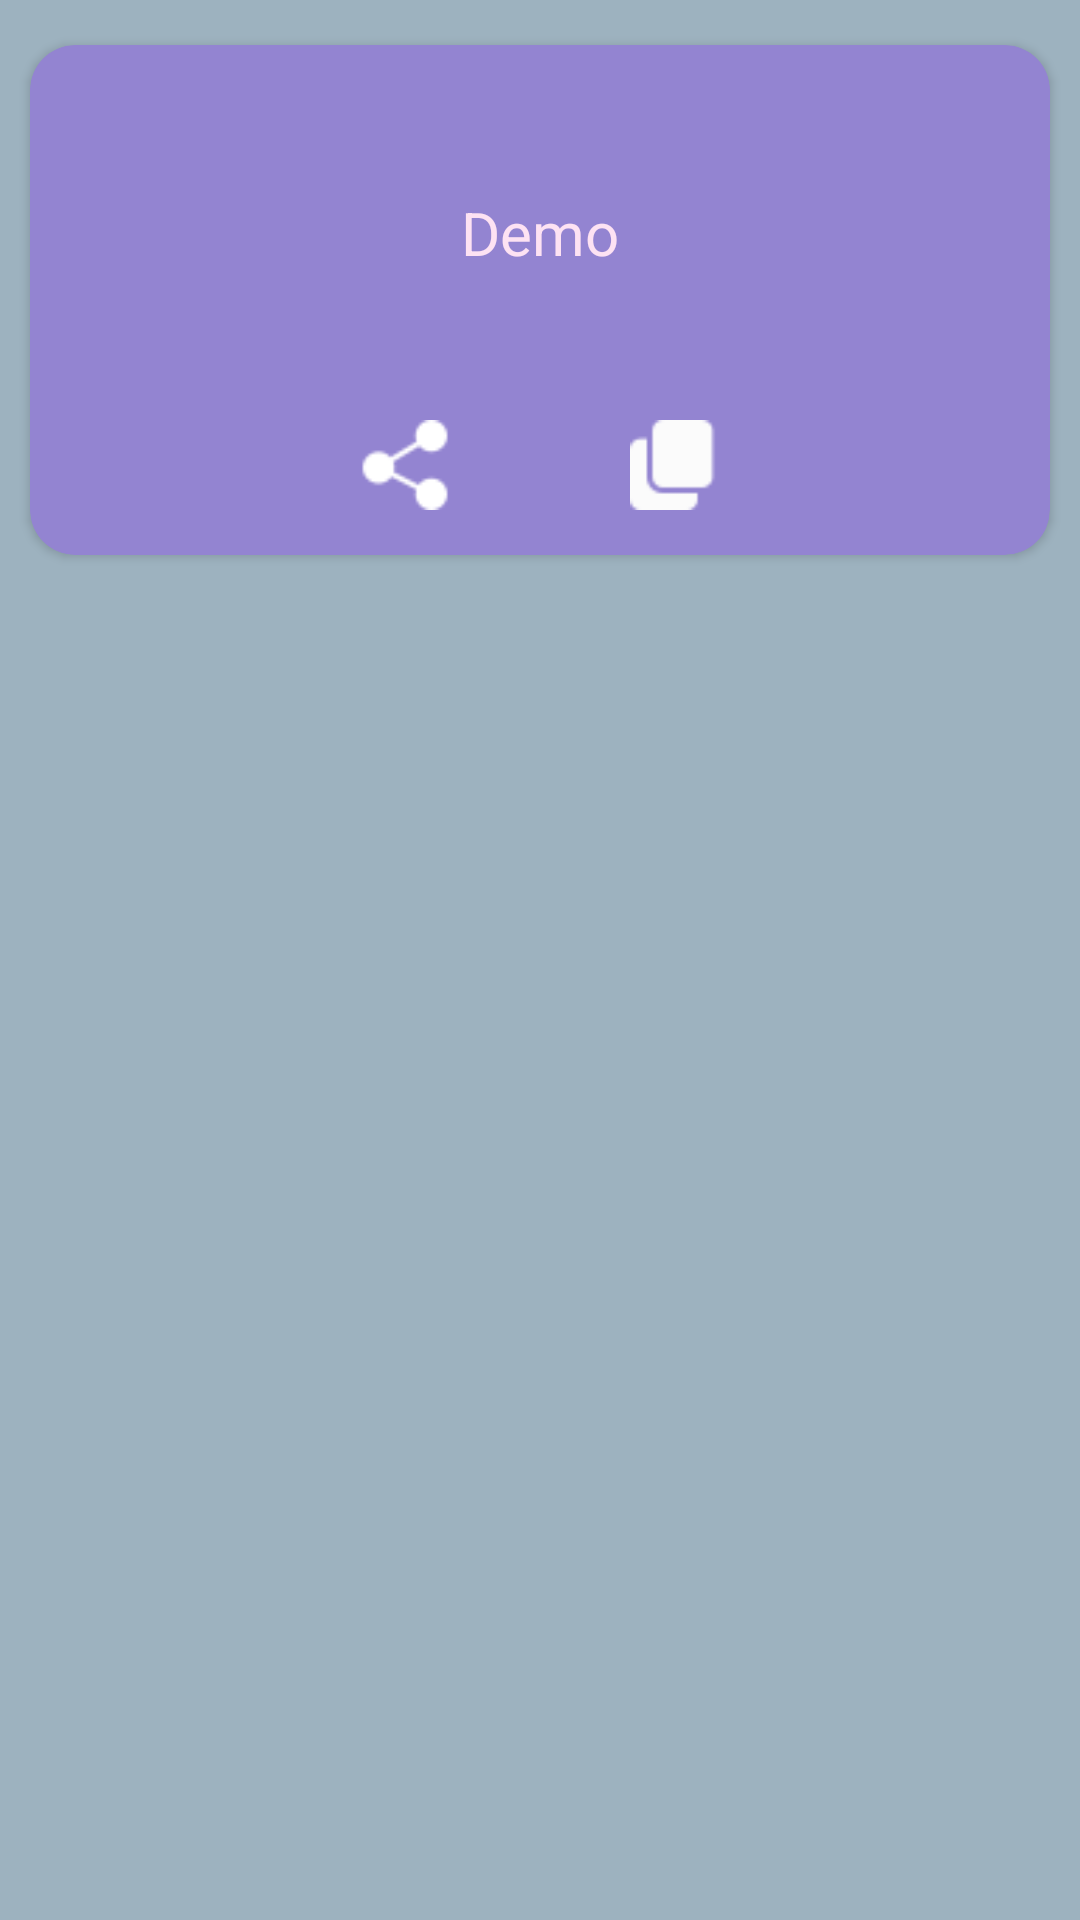

Screen size 1080 × 1920. Icon name, then its box in pixels as (x1, y1, x2, y2):
share: (362, 420, 448, 510)
